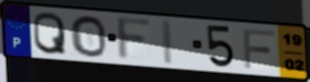5: (205, 25, 236, 69)
F: (115, 16, 156, 63), (241, 27, 277, 70)
I: (160, 19, 176, 67)
O: (68, 14, 108, 59)
Q: (32, 11, 68, 56)
